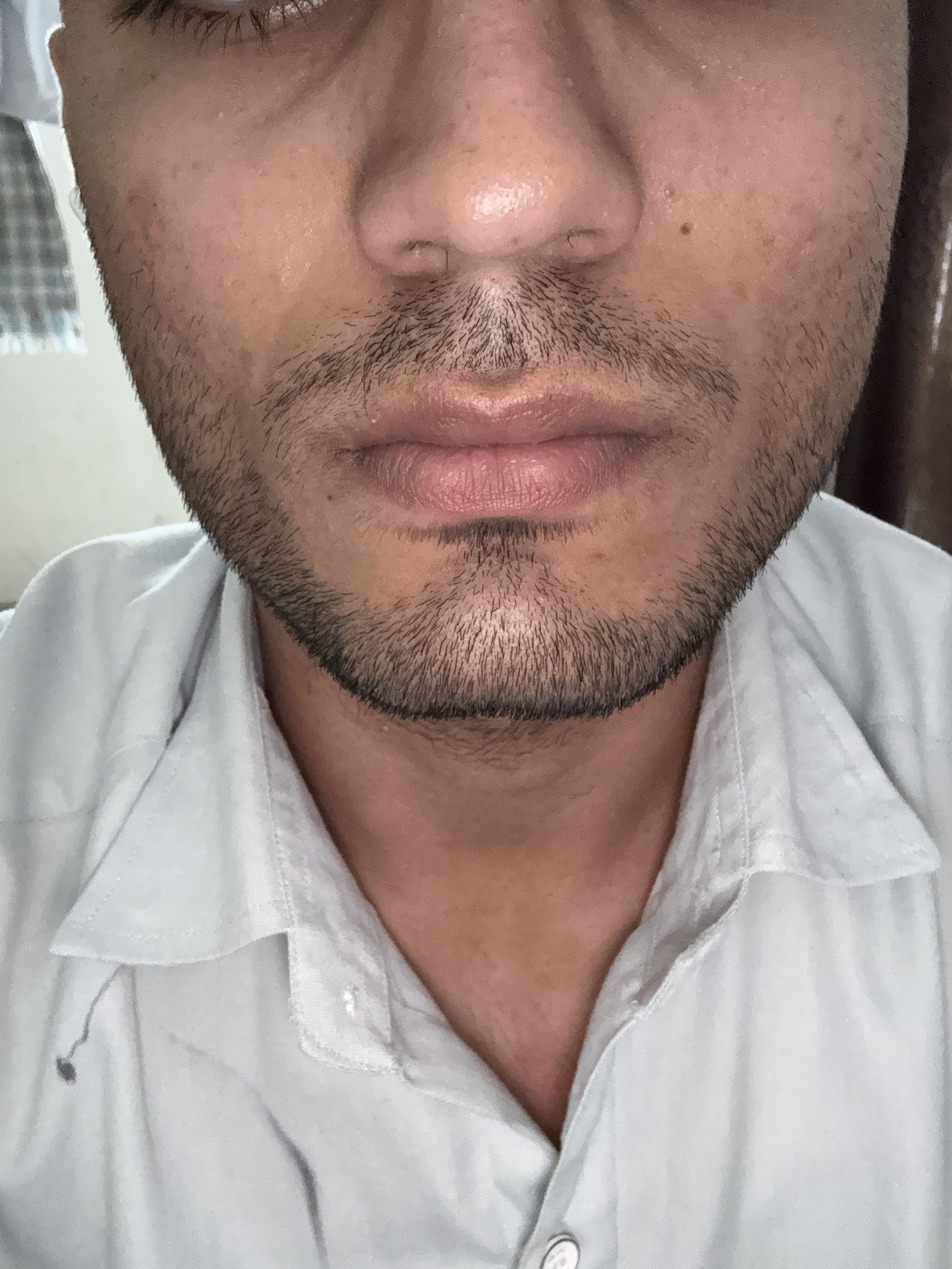closed_comedone: (729, 65, 767, 99), (688, 55, 724, 75), (212, 110, 230, 120)
